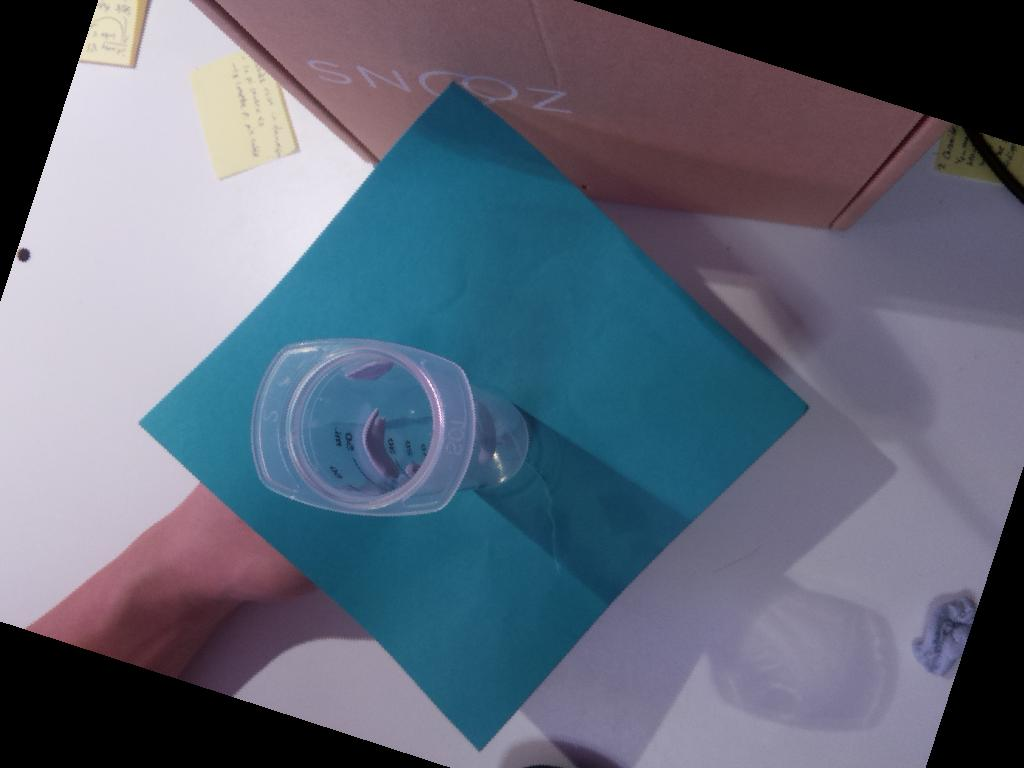dirty: (252, 338, 477, 515)
